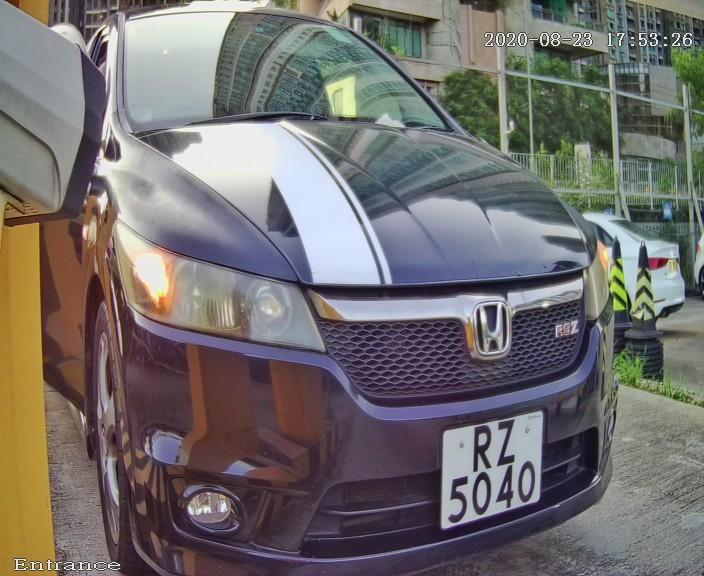License Plate: (399, 385, 578, 552)
